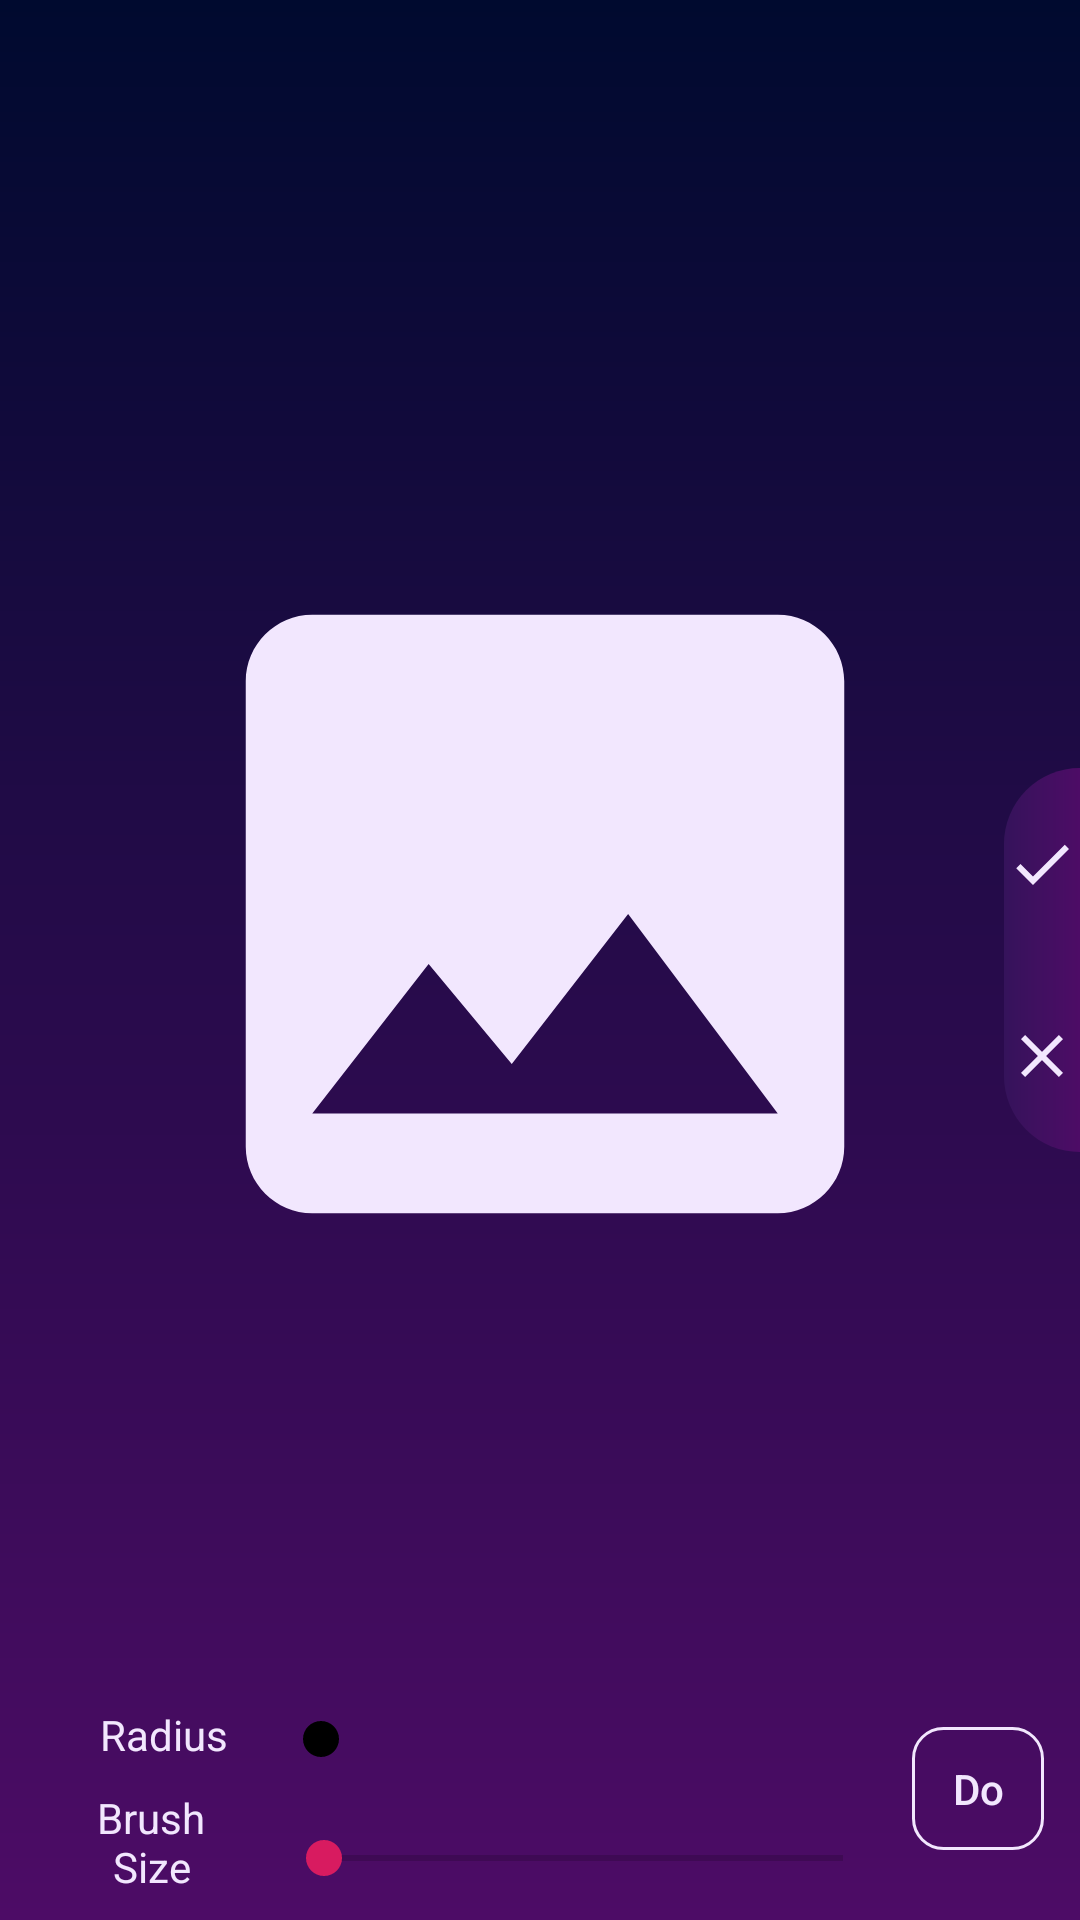

Where to tap for icons on this 1080*1920 app screen, as [x,y]:
check: [1048,864]
clear: [1050,1056]
